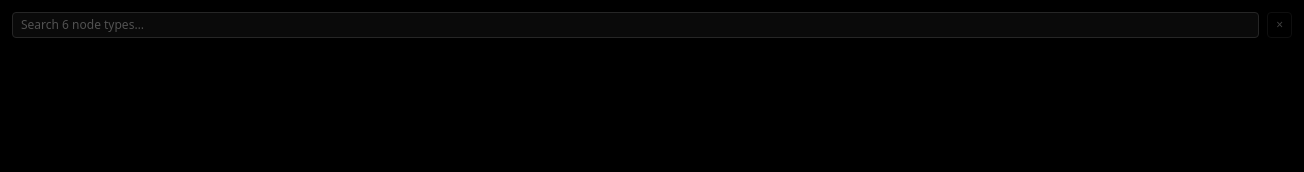
Test case: SearchPanel › explains hidden results and reveals them on demand
The image size is (1304, 172).
Later steps or results of the test are not shown.
In the field named "Search graph nodes": (636, 25) x1=12 y1=12 x2=1259 y2=38, type "legacy"
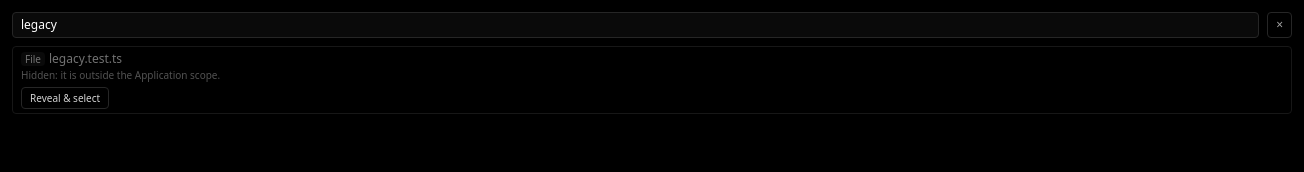
Now the text "Hidden: it is outside the Application scope." is shown, box x1=21 y1=68 x2=220 y2=82
